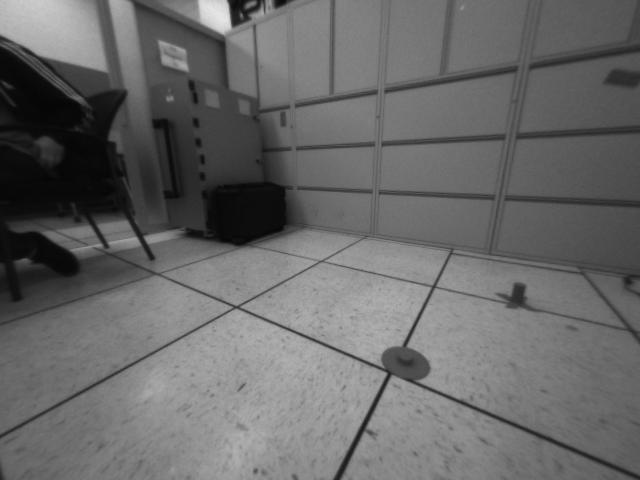X: (495, 280, 541, 313)
